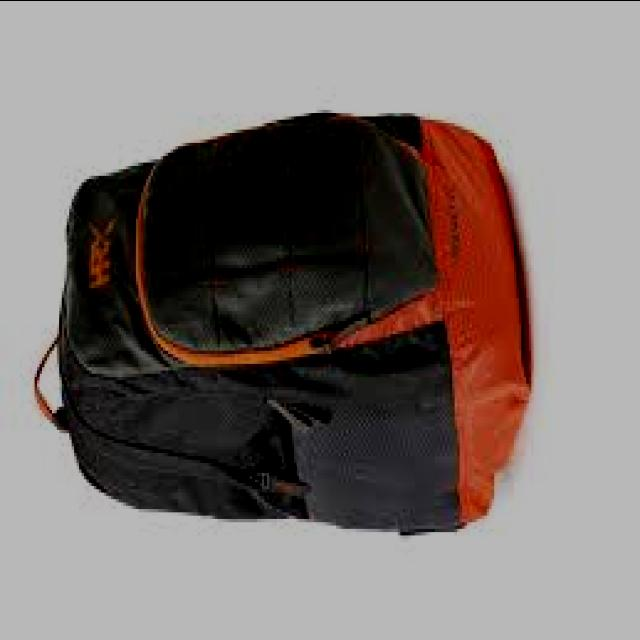backpack: (34, 113, 530, 539)
